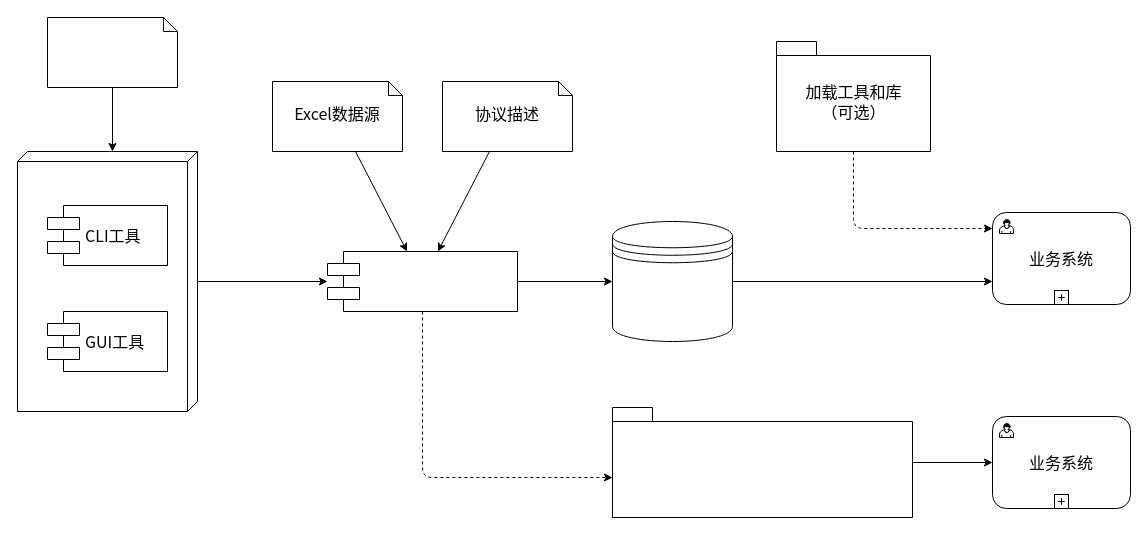
Some shapes in this 1148 by 535 pixel diagram are drawn without their labels. Each missing label, with the centre of its shape:
xresloader导表引擎: point 422,281
批量转表规则: point 112,52
输出数据: point 672,281
输出辅助性代码 （常量导出，UnrealEngine支持等） （可选）: point 762,462
